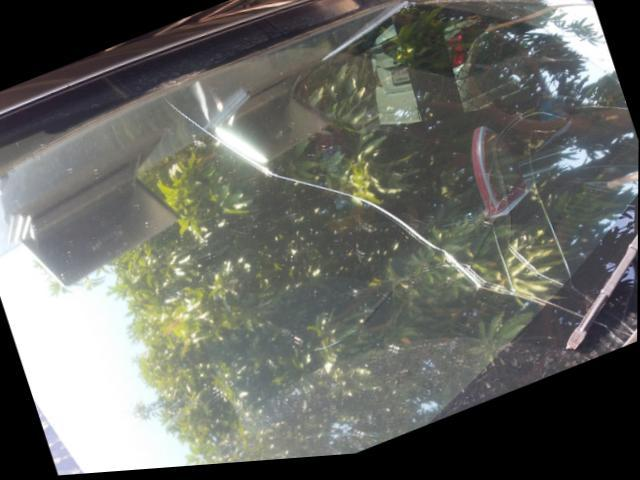glass shatter: (0, 0, 639, 475)
